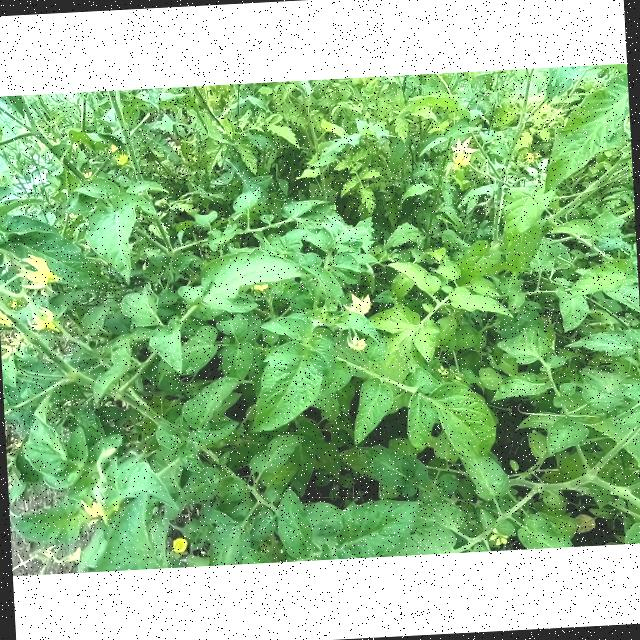Flowers: (17, 252, 63, 292), (80, 496, 120, 524), (25, 304, 60, 335), (452, 136, 477, 168), (345, 293, 376, 317), (488, 527, 509, 547), (346, 334, 368, 352), (170, 536, 188, 553), (526, 150, 542, 162), (118, 152, 130, 166), (252, 284, 270, 292), (108, 144, 118, 153)
